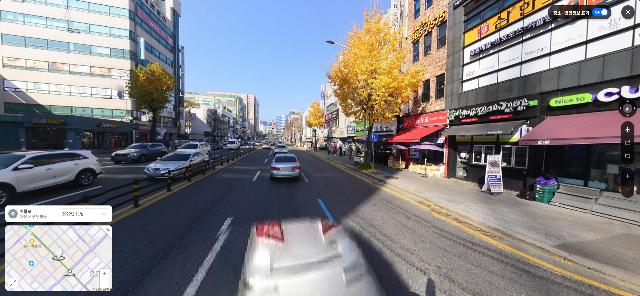ginkgo: (317, 5, 428, 169), (304, 100, 326, 149)
other: (124, 62, 179, 142), (202, 106, 226, 142), (183, 97, 202, 141)
